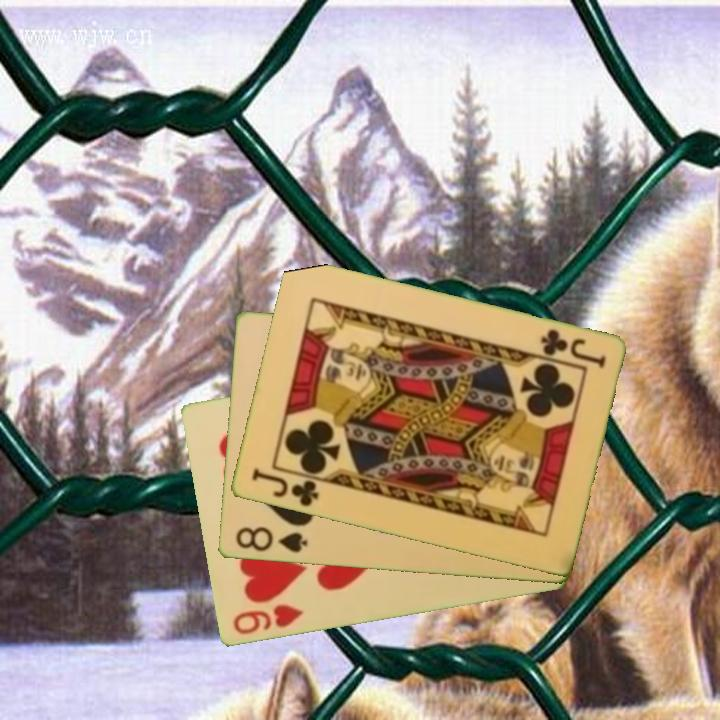8s: (231, 523, 310, 556)
9h: (229, 601, 306, 638)
Jc: (247, 464, 321, 510), (536, 326, 608, 371)
